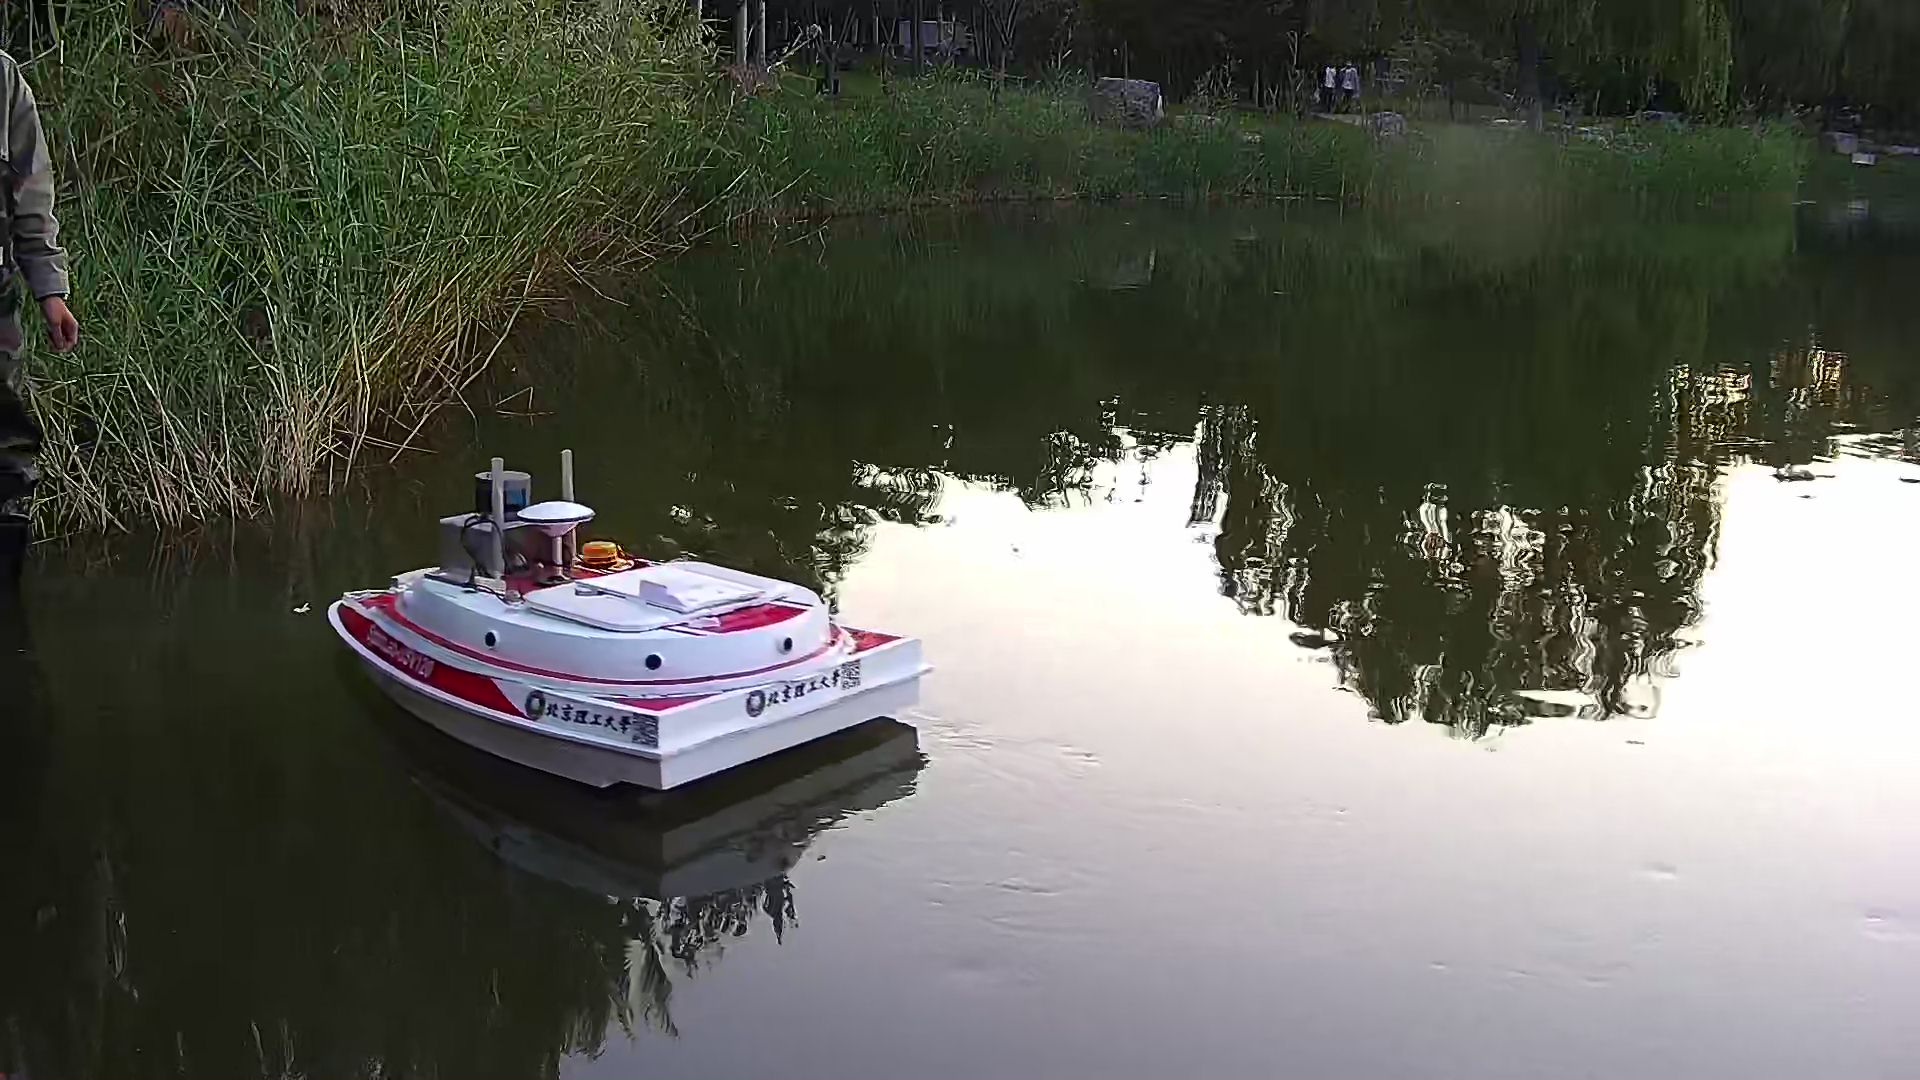boat: (330, 454, 938, 798)
